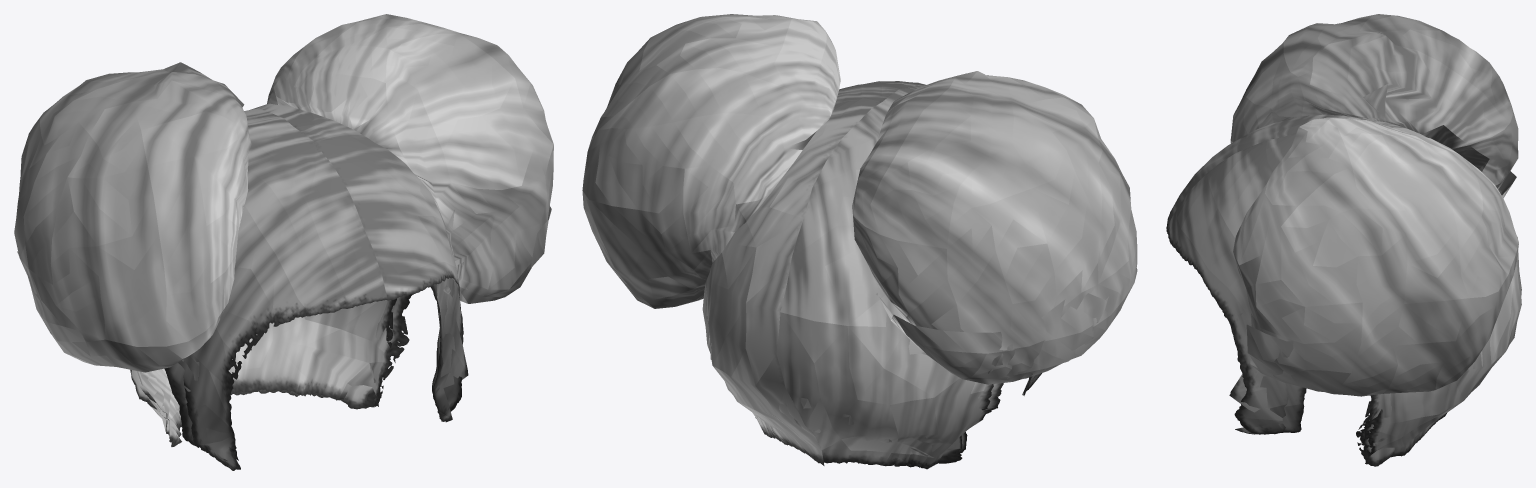
File: daz_hair_twin_buns.glb
3 renders of one model, left to right at view 1: azimuth 30°, elevation 25°; view 2: azimuth 150°, elevation 25°; view 3: azimuth 270°, elevation 25°, orthographic. The views are drawn at different scales.
Parts seen in each view (by area): view 1: daz_hair_twin_buns; view 2: daz_hair_twin_buns; view 3: daz_hair_twin_buns.
Boxes of the visible parts, <box> form: daz_hair_twin_buns: <box>14,14,553,470</box>; daz_hair_twin_buns: <box>582,14,1137,469</box>; daz_hair_twin_buns: <box>1166,14,1521,466</box>.
Size of the model in its own units: 0.275 by 0.2052 by 0.1883.
1 material, 1 textured.
